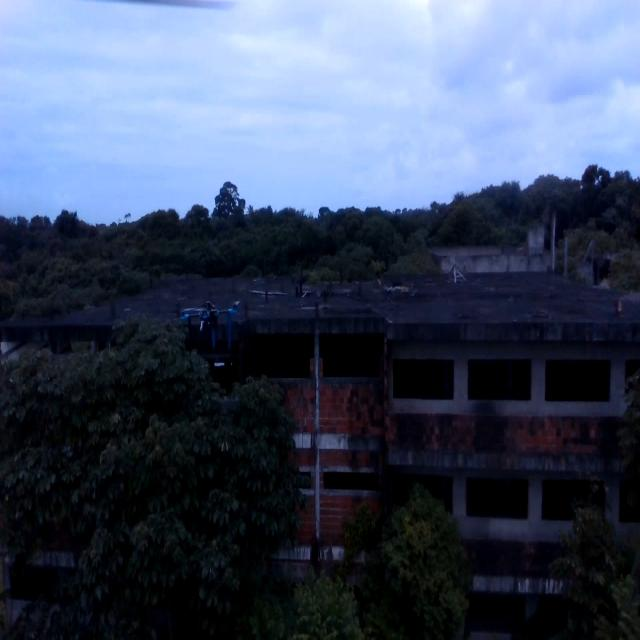-uav-: (168, 280, 254, 384)
